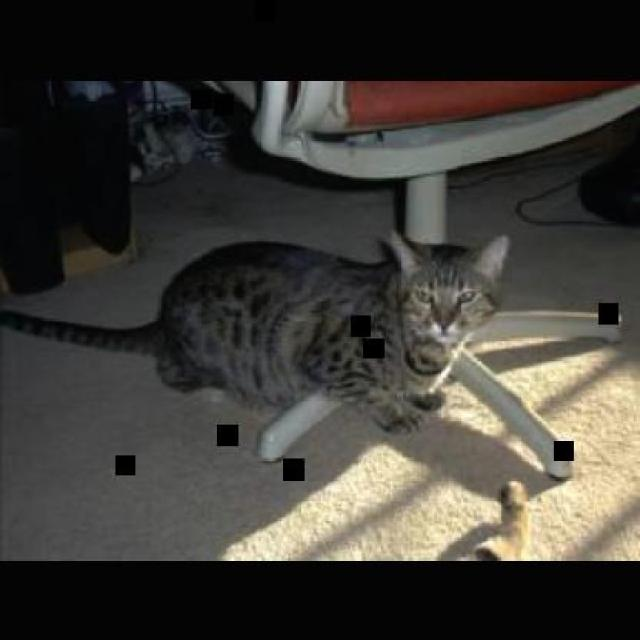unauthorized: (0, 228, 511, 463), (472, 478, 532, 560)
